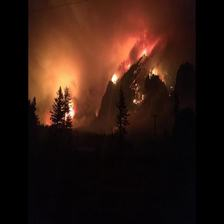fire: (42, 30, 163, 128)
